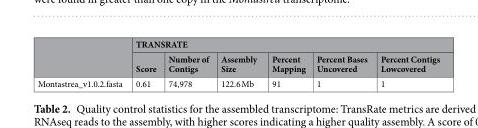table: (36, 37, 439, 89)
table column: (36, 37, 128, 89), (373, 37, 439, 89), (310, 37, 373, 89), (161, 37, 214, 89), (214, 37, 263, 89), (263, 37, 310, 89), (128, 37, 161, 89)
table column header: (36, 37, 439, 75)
table row: (36, 51, 439, 75), (36, 37, 439, 51), (36, 75, 439, 89)
table spanning cell: (128, 37, 439, 51)
